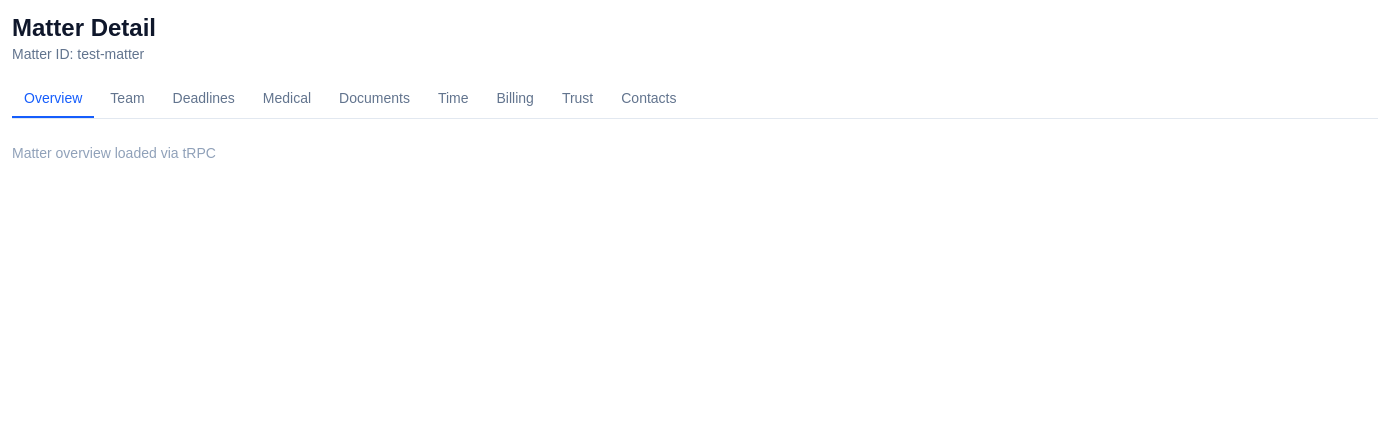
Test case: MatterDetailPage › shows trust placeholder
Click the button with test id "tab-trust".
click(578, 99)  # box [550,80,605,118]
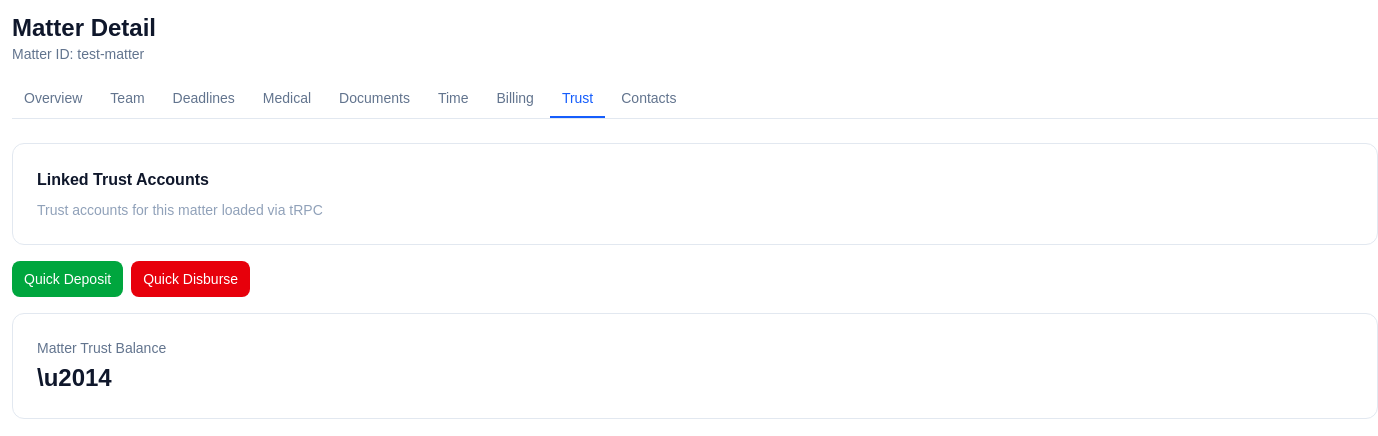
Check: the element with test id "matter-trust-accounts" is shown, box [12,143,1377,245]
